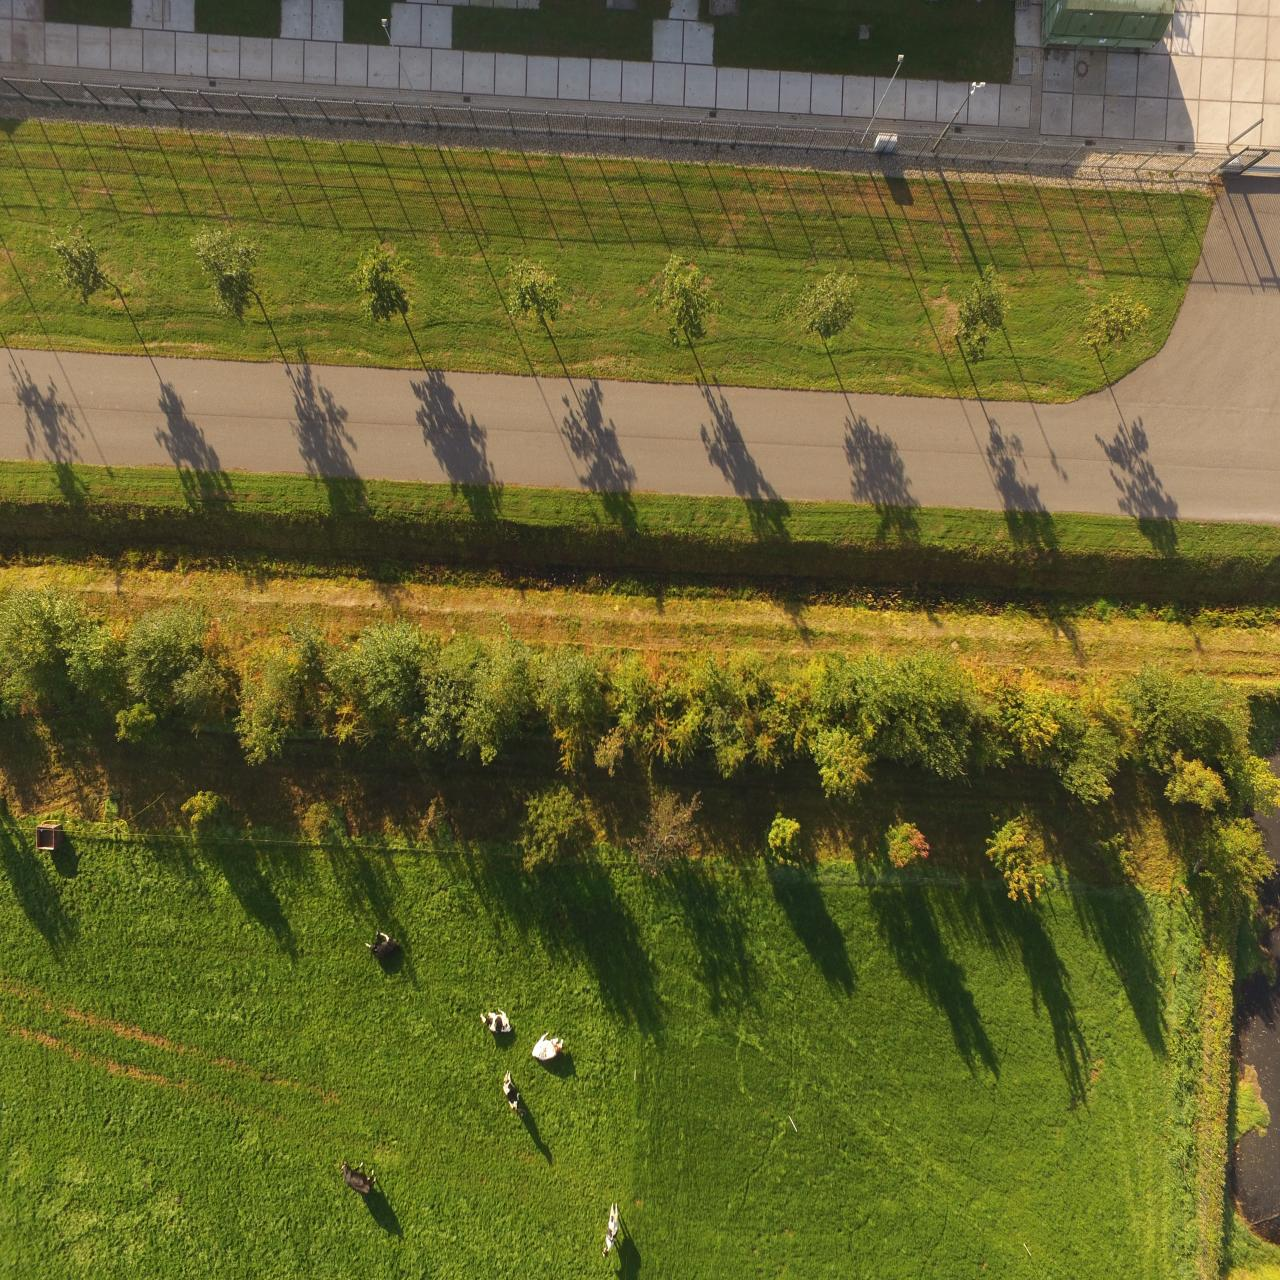cow: (336, 1144, 383, 1207), (595, 1196, 631, 1261), (531, 1027, 576, 1073), (359, 931, 406, 969), (477, 1006, 516, 1050), (496, 1069, 526, 1115)
